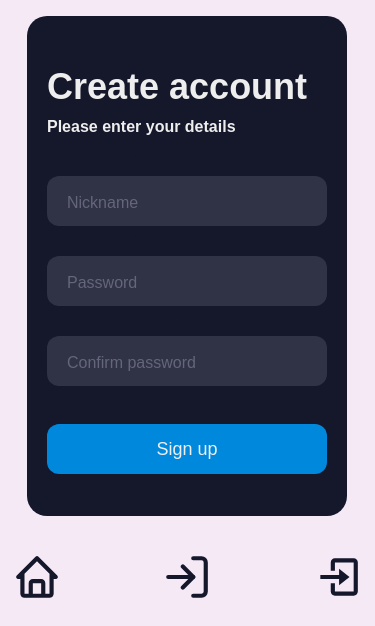
Scenario: App Componet › should click in login icon
What coordinates should you click on to do the following:
click the 2nd link
I would click on:
 (187, 591)
Its box is [162,573,212,609].
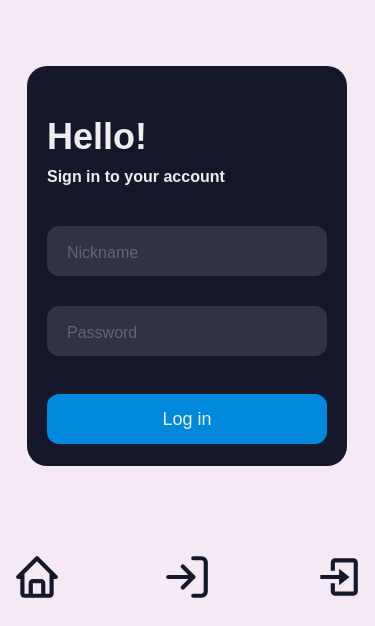
Expected: the text "Sign in to your account" is shown, [47,168,225,185]
